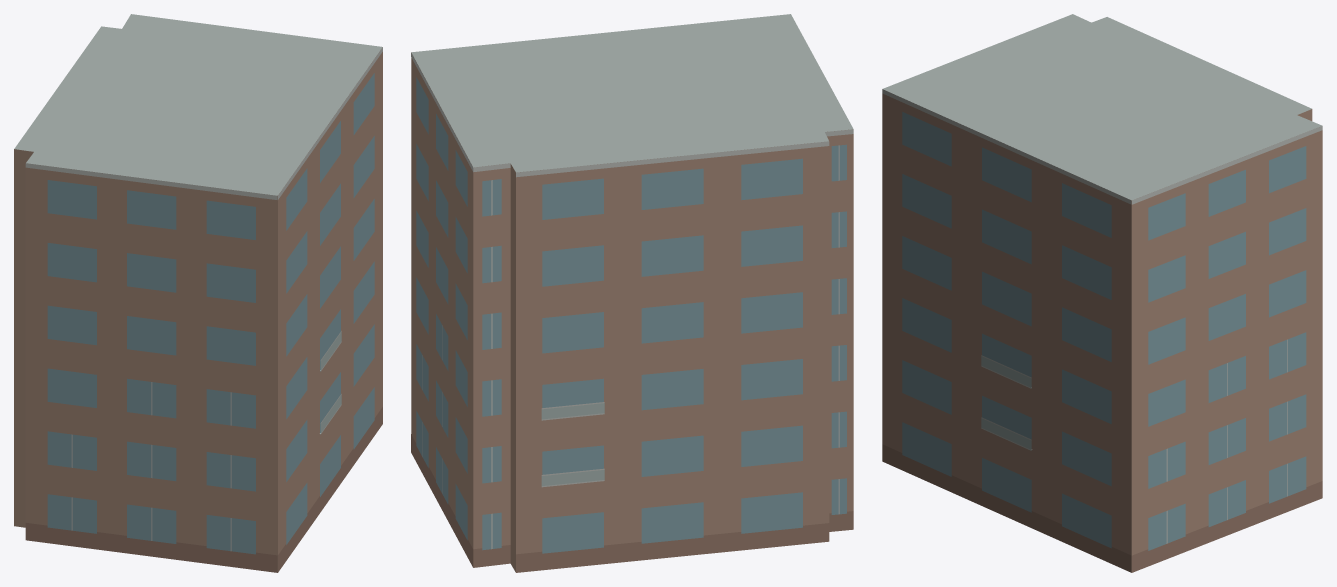
The model's file is survey-upis-33000006.glb.
3 views of the same model, side by side, from view 1: azimuth 30°, elevation 25°; view 2: azimuth 150°, elevation 25°; view 3: azimuth 270°, elevation 25° (orthographic). The views are drawn at different scales.
Parts seen in each view (by area): view 1: survey-upis-33000006.tmp; view 2: survey-upis-33000006.tmp; view 3: survey-upis-33000006.tmp.
Part boxes in pixels (x1,y1,x2,y2): survey-upis-33000006.tmp: [14, 14, 382, 572]; survey-upis-33000006.tmp: [411, 14, 853, 572]; survey-upis-33000006.tmp: [882, 14, 1322, 572].
Size of the model in its own units: 22.26 by 20.73 by 22.22.
